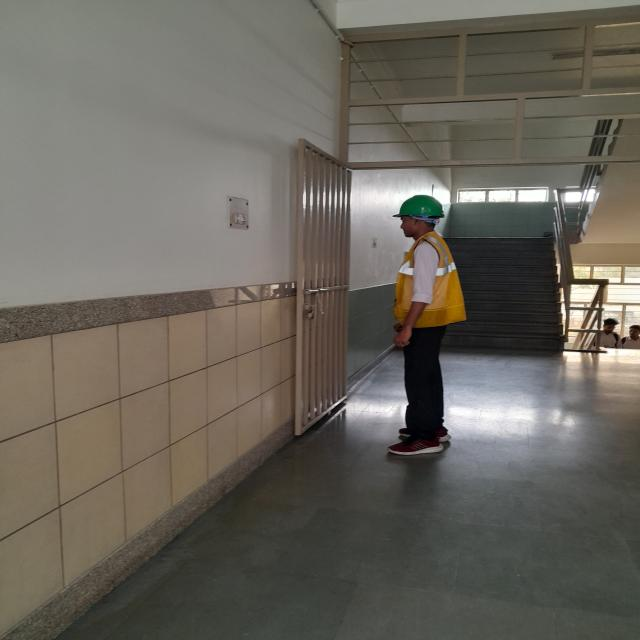safe: (392, 195, 467, 455)
